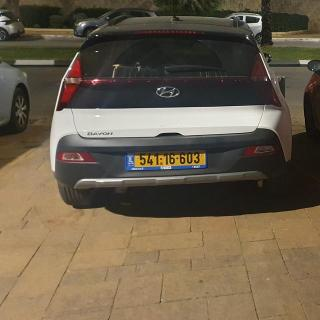LicensePlate: (134, 150, 205, 167)
